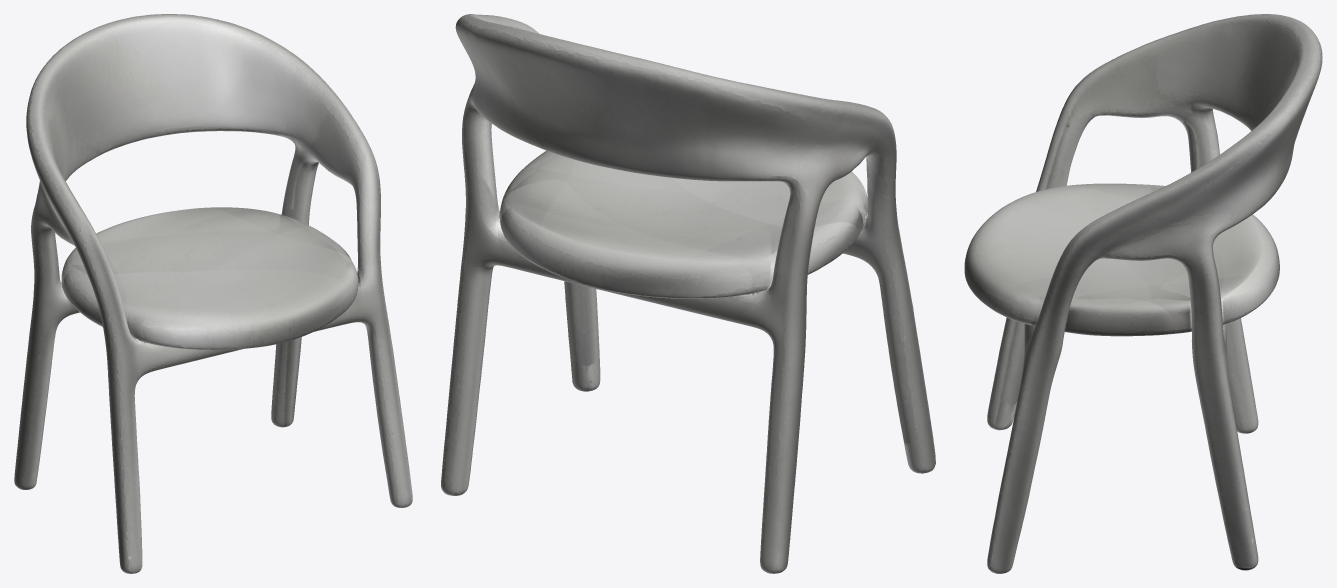
The model's file is ceramic-chair.glb.
3 views of the same model, side by side, from view 1: azimuth 30°, elevation 25°; view 2: azimuth 150°, elevation 25°; view 3: azimuth 270°, elevation 25° (orthographic). The views are drawn at different scales.
Parts seen in each view (by area): view 1: geometry_0; view 2: geometry_0; view 3: geometry_0.
Boxes of the visible parts, bbox=[...] form: geometry_0: bbox=[14, 14, 412, 573]; geometry_0: bbox=[441, 14, 935, 573]; geometry_0: bbox=[964, 14, 1322, 573].
Size of the model in its own units: 0.6293 by 0.82 by 0.5885.
1 material, 1 textured.
